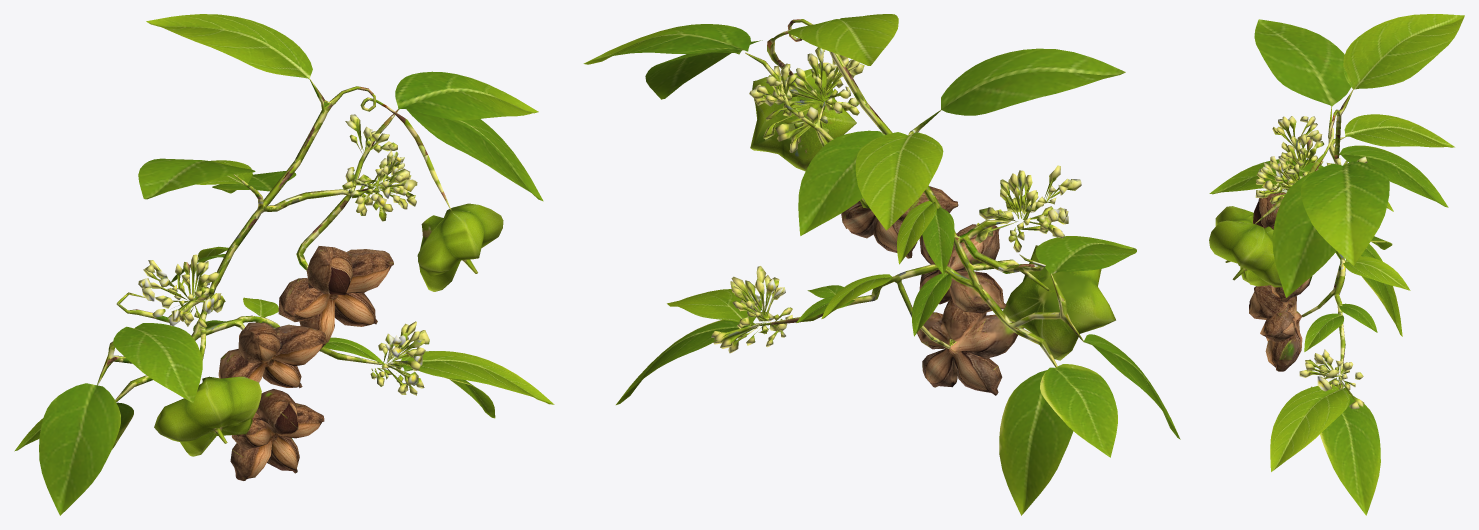
The model's file is sacha-inchi.glb.
3 renders of one model, left to right at view 1: azimuth 30°, elevation 25°; view 2: azimuth 150°, elevation 25°; view 3: azimuth 270°, elevation 25°, orthographic. The views are drawn at different scales.
Visible parts, largest first — view 1: Vert; view 2: Vert, Hoja muestra.014, Hoja muestra.010; view 3: Vert.
Boxes of the visible parts, bbox=[...] form: Vert: bbox=[39, 14, 554, 515]; Vert: bbox=[583, 14, 1180, 515]; Hoja muestra.014: bbox=[1040, 364, 1117, 457]; Hoja muestra.010: bbox=[911, 273, 951, 336]; Vert: bbox=[1209, 14, 1464, 515].
Bounding box in the file's own units: 1.03 × 0.8187 × 0.5012.
1 material, 1 textured.
